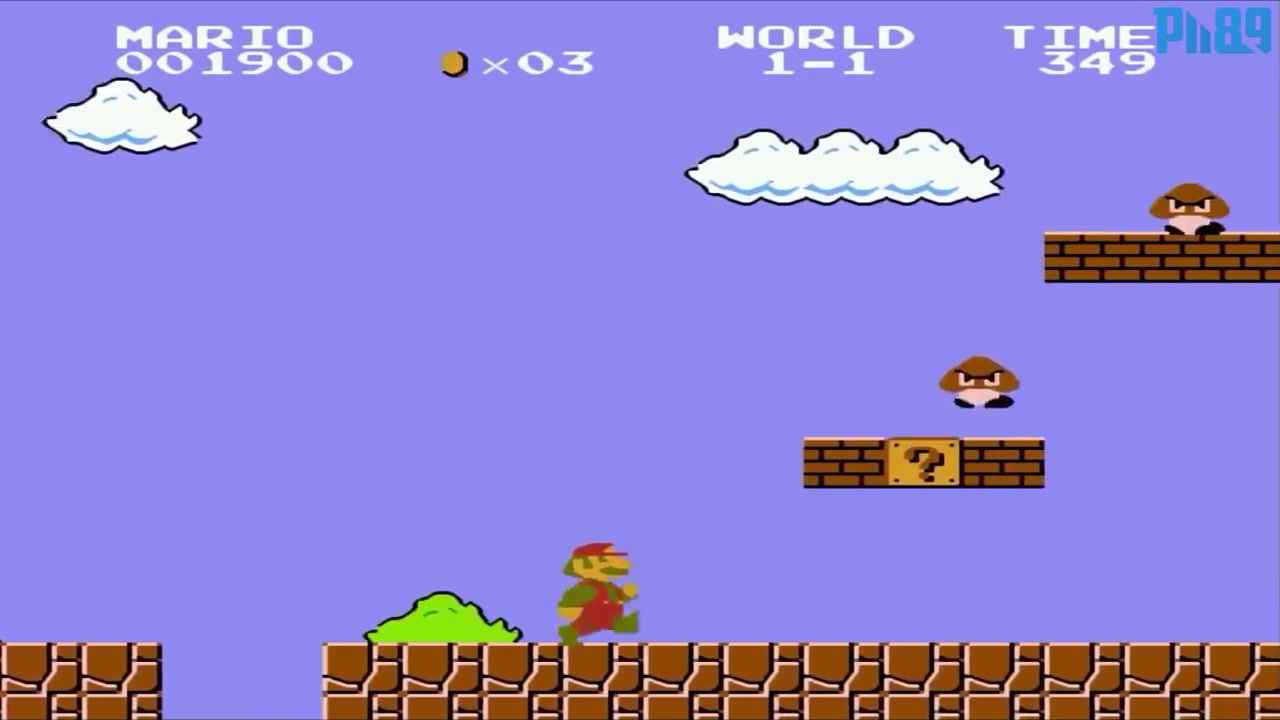mario: (541, 531, 652, 650)
